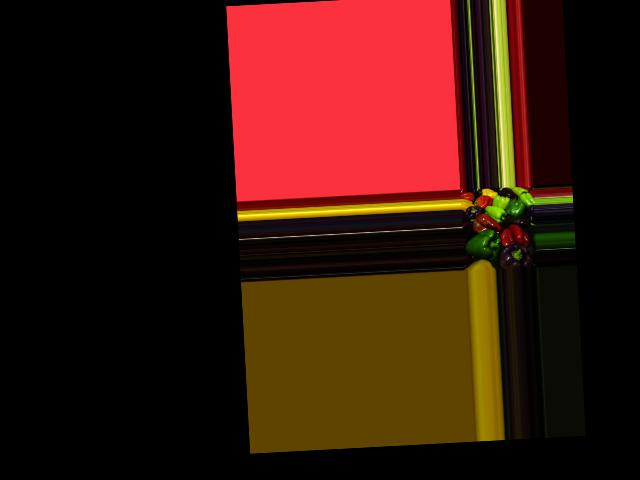bell_pepper: (462, 202, 483, 221)
